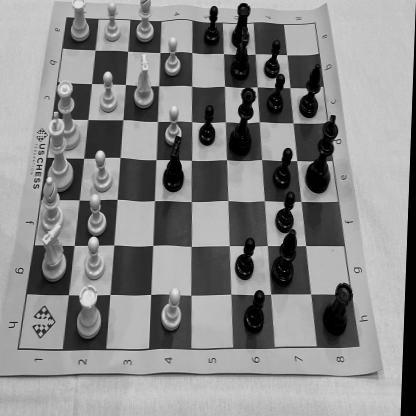black-bishop: (272, 230, 300, 286), (300, 62, 324, 120)
black-king: (306, 112, 340, 196)
black-knight: (162, 133, 188, 193), (229, 26, 254, 80)
black-pawn: (235, 235, 259, 284), (246, 288, 268, 336), (275, 191, 299, 233), (274, 146, 294, 189), (266, 74, 286, 116), (262, 38, 282, 78), (198, 104, 217, 146), (202, 5, 221, 46)
black-queen: (230, 86, 256, 157)
black-rook: (323, 277, 356, 339), (230, 0, 253, 49)
white-bishop: (39, 175, 67, 232), (134, 0, 158, 43)
white-king: (44, 110, 78, 194)
white-knight: (39, 220, 71, 281), (132, 53, 156, 108)
white-pawn: (161, 285, 185, 330), (85, 235, 108, 280), (162, 34, 184, 79), (92, 150, 115, 192), (87, 195, 110, 236), (164, 103, 184, 147), (102, 0, 122, 44), (100, 69, 120, 113)
white-queen: (52, 78, 84, 152)
white-rook: (76, 283, 106, 342), (68, 0, 93, 44)
